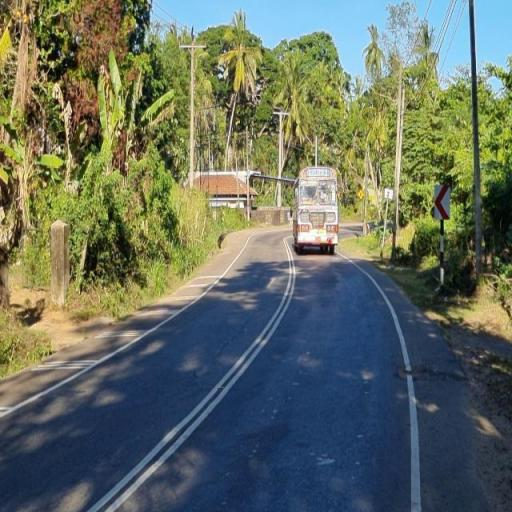double_white_line: (85, 234, 299, 512)
